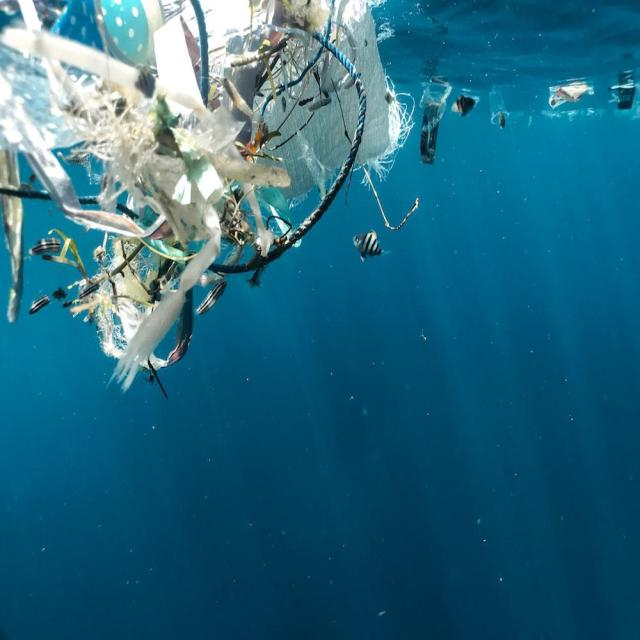plastic: (407, 72, 455, 176), (548, 74, 596, 115), (484, 78, 512, 139)
trash: (4, 3, 378, 320)
